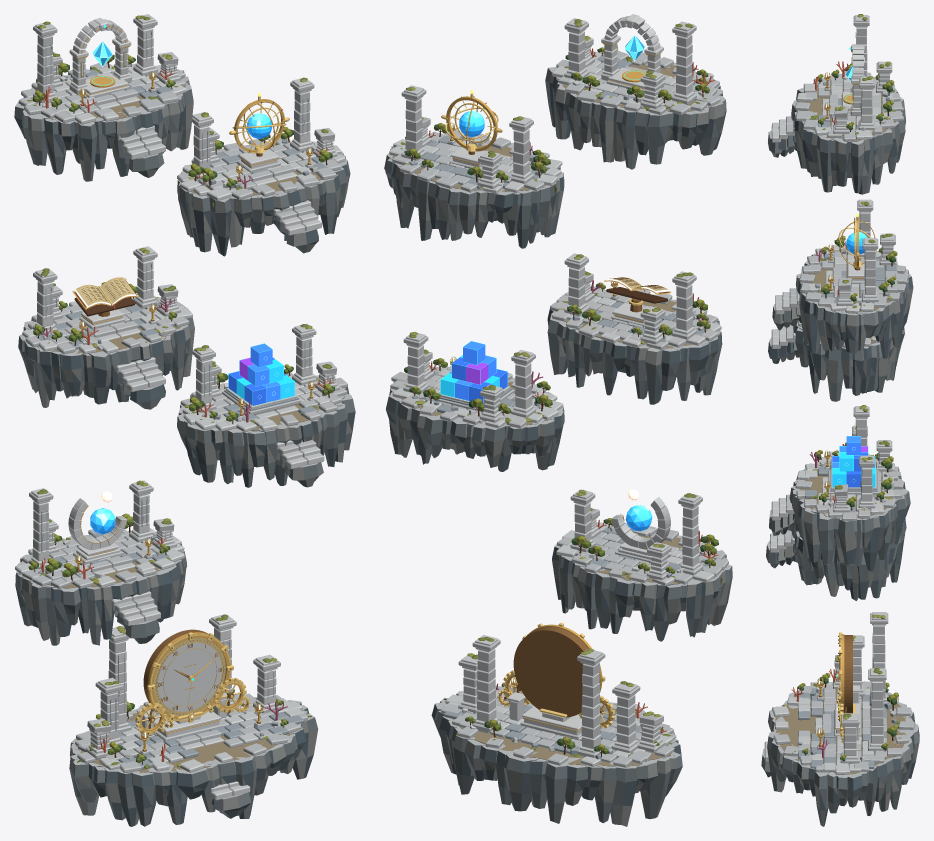
File: sunken_ruins_web_draco.glb
The picture shows the model from 3 angles, left to right: view 1: azimuth 30°, elevation 25°; view 2: azimuth 150°, elevation 25°; view 3: azimuth 270°, elevation 25°; orthographic projection. The views are drawn at different scales.
Parts seen in each view (by area): view 1: Static_Ruin_06, Static_Ruin_01, Static_Ruin_03, Static_Ruin_05, Static_Ruin_02, Static_Ruin_04, Chronometer | right exposed escapement; view 2: Static_Ruin_06, Static_Ruin_01, Static_Ruin_05, Static_Ruin_02, Static_Ruin_03, Static_Ruin_04; view 3: Static_Ruin_06, Static_Ruin_01, Static_Ruin_02, Static_Ruin_04, Static_Ruin_03, Static_Ruin_05.
Part boxes in pixels (x1,y1,x2,y2): Static_Ruin_06: (69, 614, 318, 826); Static_Ruin_01: (14, 14, 193, 181); Static_Ruin_03: (18, 246, 194, 409); Static_Ruin_05: (15, 480, 186, 645); Static_Ruin_02: (177, 77, 350, 256); Static_Ruin_04: (177, 323, 355, 487); Chronometer | right exposed escapement: (214, 677, 246, 712); Static_Ruin_06: (431, 622, 682, 826); Static_Ruin_01: (545, 14, 726, 169); Static_Ruin_05: (552, 489, 732, 641); Static_Ruin_02: (384, 85, 564, 248); Static_Ruin_03: (547, 253, 722, 404); Static_Ruin_04: (386, 332, 564, 471); Static_Ruin_06: (761, 612, 919, 826); Static_Ruin_01: (768, 14, 905, 194); Static_Ruin_02: (772, 199, 913, 358); Static_Ruin_04: (769, 405, 910, 571); Static_Ruin_03: (768, 319, 905, 401); Static_Ruin_05: (766, 425, 906, 600).
Size of the model in its own units: 19.09 by 44.63 by 9.03.
